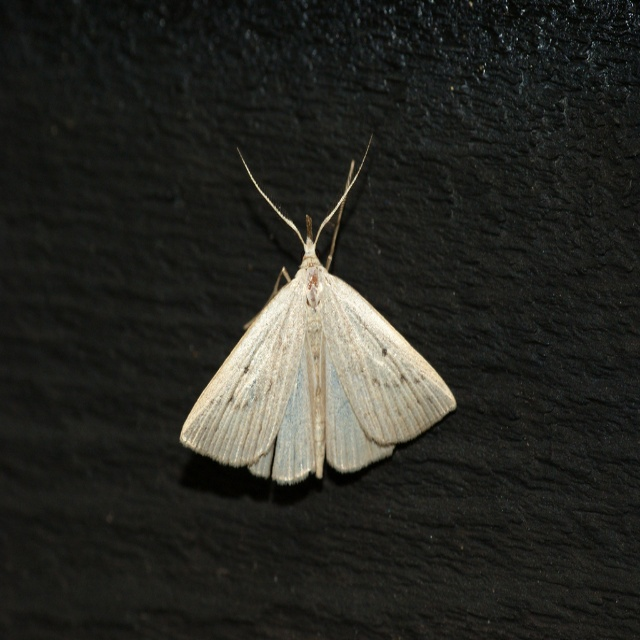Butterfly: (187, 140, 449, 516)
